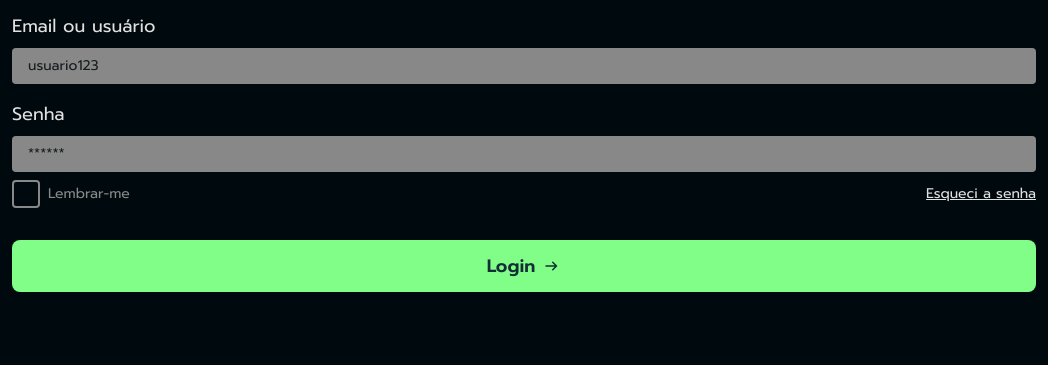
LoginForm › shows errors and does not submit when fields are empty
This screenshot has width=1048, height=365.
Click the button "Login". click: (524, 266)
box: [12,240,1036,292]
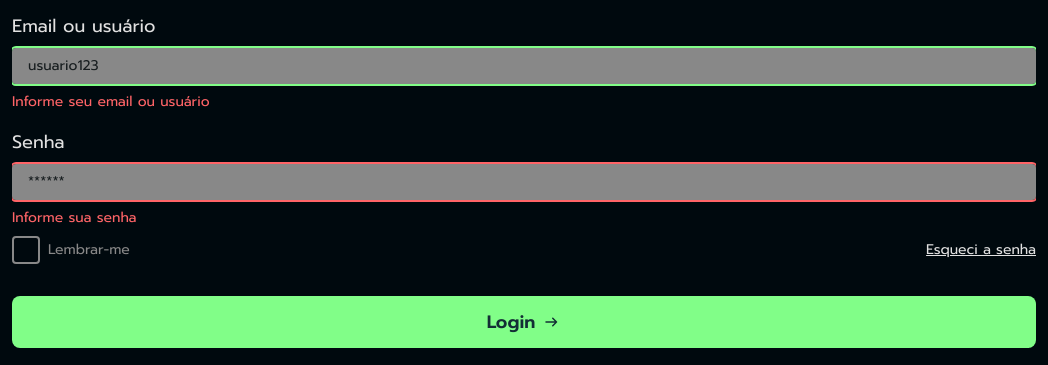
Check: the text "Informe seu email ou usuário" is shown, box [12,91,210,112]
Check: the text "Informe sua senha" is shown, box [12,207,136,228]
